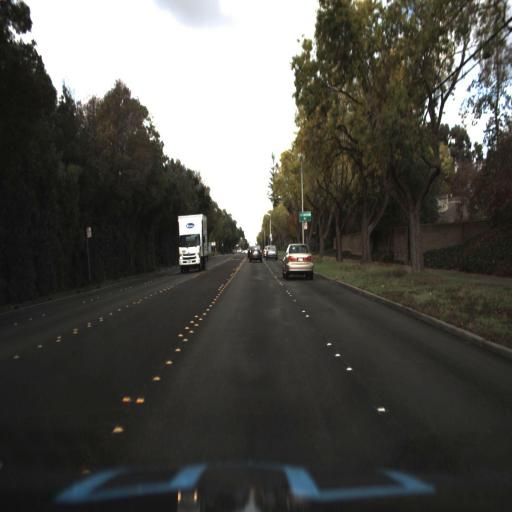car: (280, 234, 314, 285), (260, 240, 281, 264), (248, 239, 264, 264), (264, 242, 278, 258)
truck: (176, 212, 210, 272)
